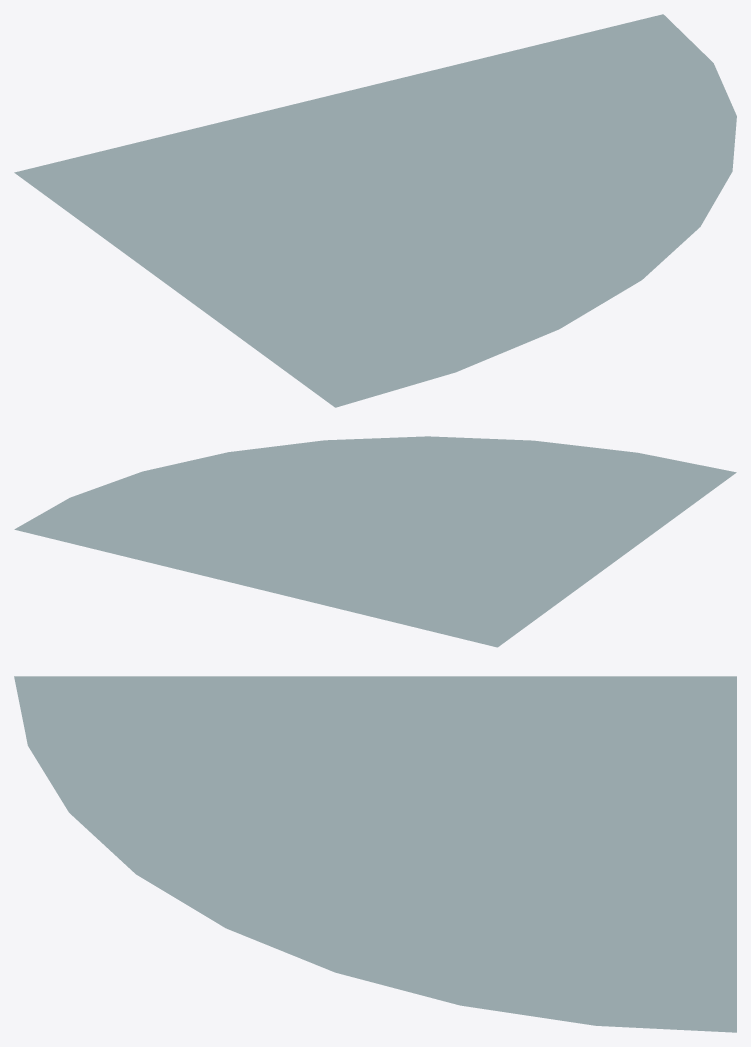
Rendered from Modular_Build1rc2.fbx.
The picture shows the model from 3 angles, top to bottom: view 1: azimuth 30°, elevation 25°; view 2: azimuth 150°, elevation 25°; view 3: azimuth 270°, elevation 25°; orthographic projection. The views are drawn at different scales.
Parts seen in each view (by area): view 1: Roof1_c2; view 2: Roof1_c2; view 3: Roof1_c2.
Boxes of the visible parts, x1,y1,x2,y2 form: Roof1_c2: (14,14,736,407); Roof1_c2: (14,436,736,647); Roof1_c2: (14,676,736,1032).
Bounding box in the file's own units: 140 × 120 × 0.
